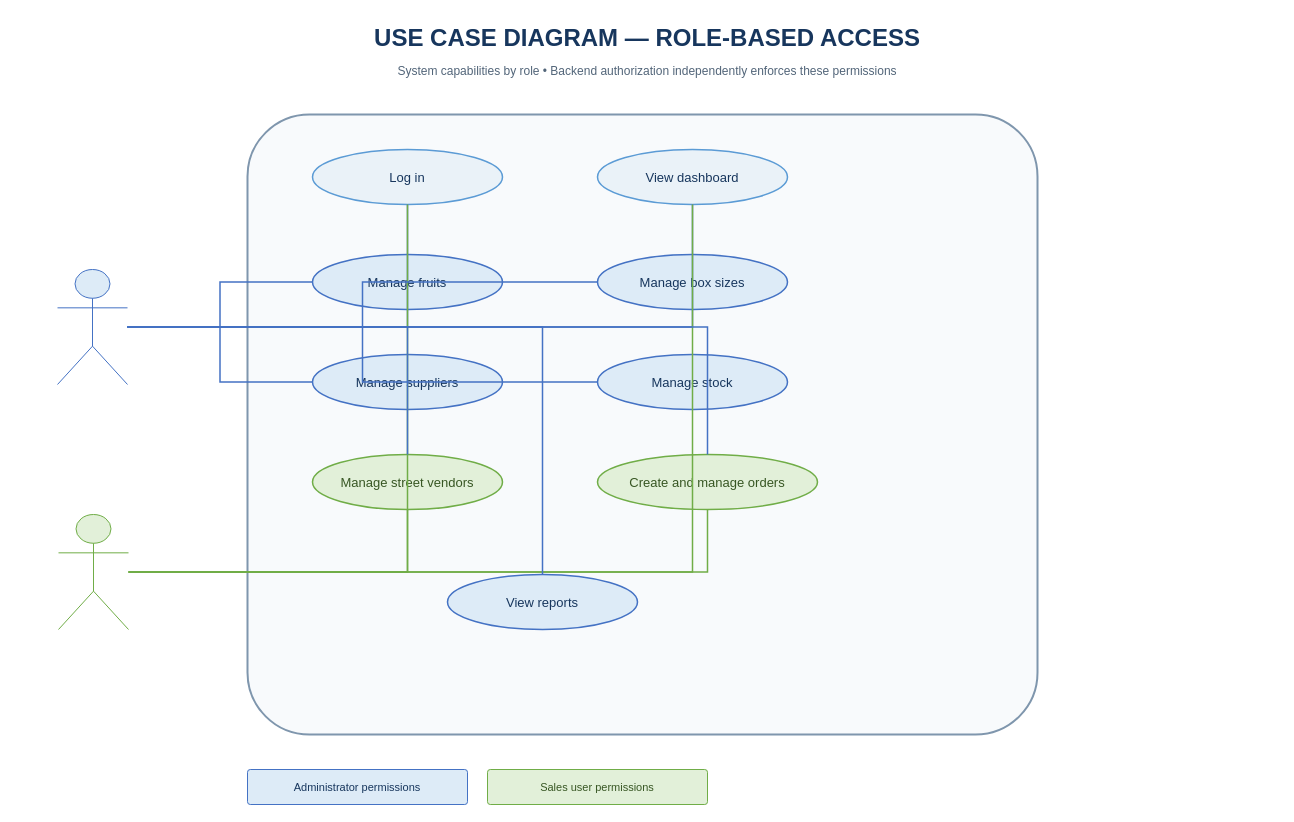
This 1294x822 diagram has some shape labels left out. Each missing label, with the box of its shape:
Administrator: (56, 268, 128, 384)
FRUIT & VENDOR ORDER MANAGEMENT SYSTEM: (246, 113, 1038, 735)
Sales user: (58, 514, 128, 630)
